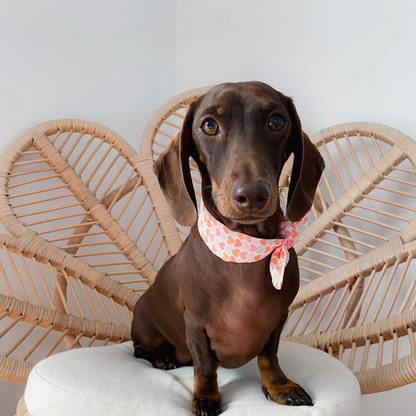dachshund: (131, 85, 332, 404)
